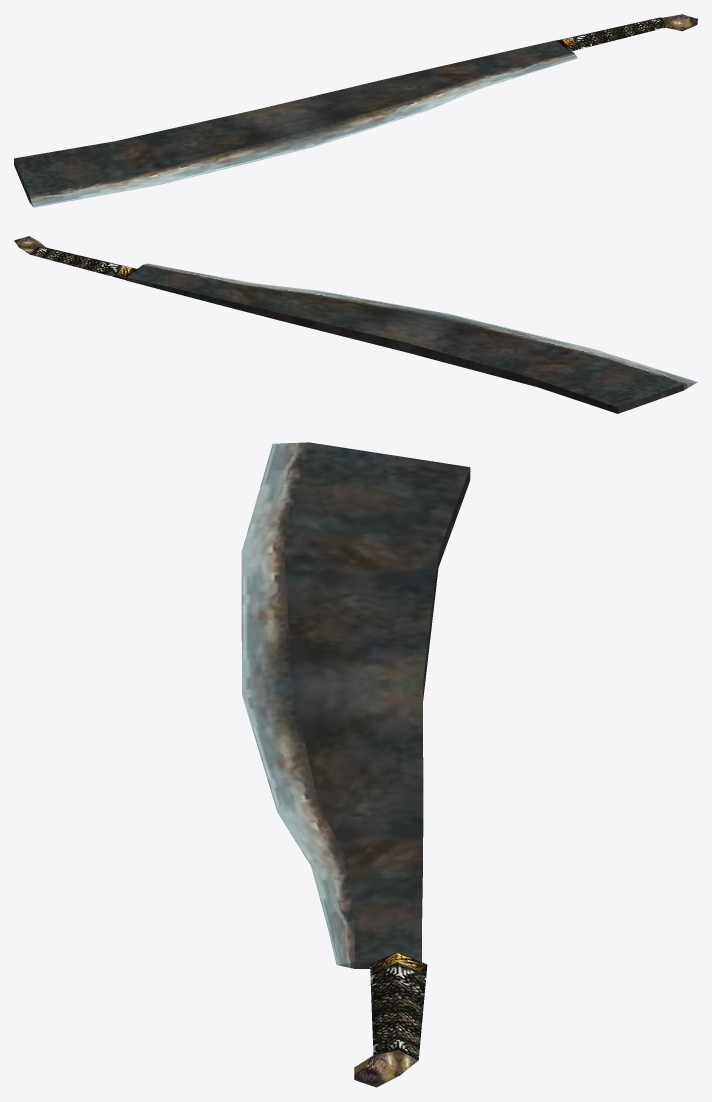
The model's file is ITMW_1H_MACHETE_01.glb.
3 renders of one model, top to bottom at view 1: azimuth 30°, elevation 25°; view 2: azimuth 150°, elevation 25°; view 3: azimuth 270°, elevation 25°, orthographic. The views are drawn at different scales.
Parts seen in each view (by area): view 1: ITMW_1H_MACHETE_01; view 2: ITMW_1H_MACHETE_01; view 3: ITMW_1H_MACHETE_01.
Part boxes in pixels (x1=…): ITMW_1H_MACHETE_01: x1=14, y1=14, x2=697, y2=207; ITMW_1H_MACHETE_01: x1=14, y1=236, x2=697, y2=413; ITMW_1H_MACHETE_01: x1=241, y1=442, x2=470, y2=1087.
Size of the model in its own units: 0.8475 by 0.02 by 0.1276.
Materials: 3 (3 with a texture image).
